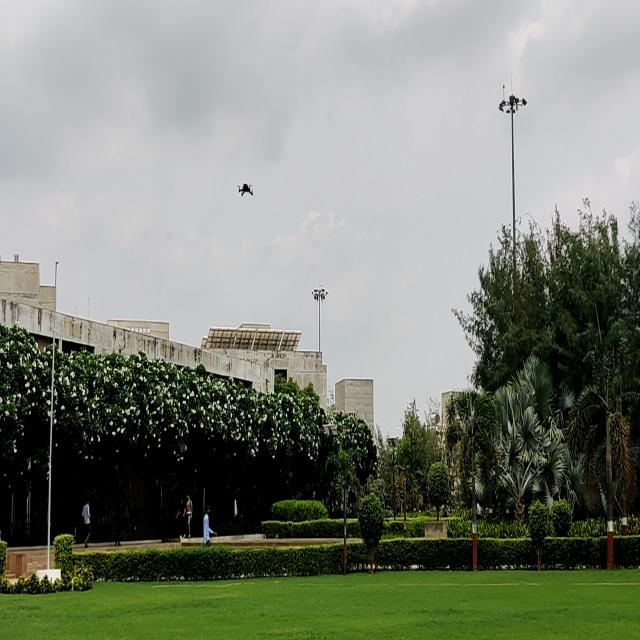drone: (235, 178, 259, 203)
